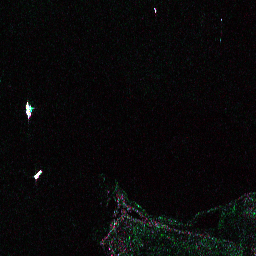ship: (32, 167, 44, 182), (24, 100, 33, 119)
